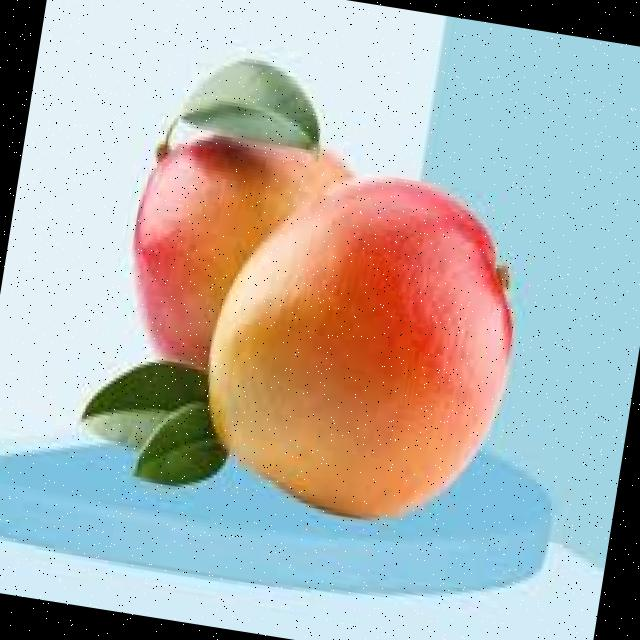mango: (206, 176, 517, 522)
